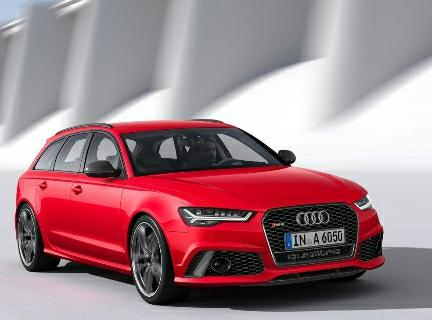car: (11, 117, 391, 305)
